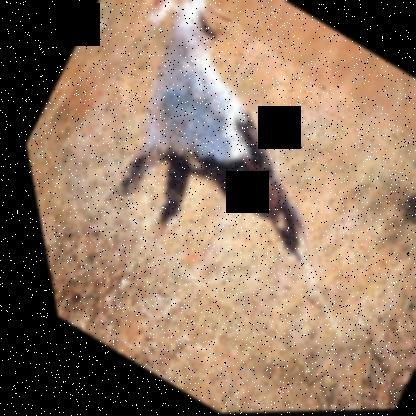Sagittarius serpentarius: (7, 0, 415, 386)
